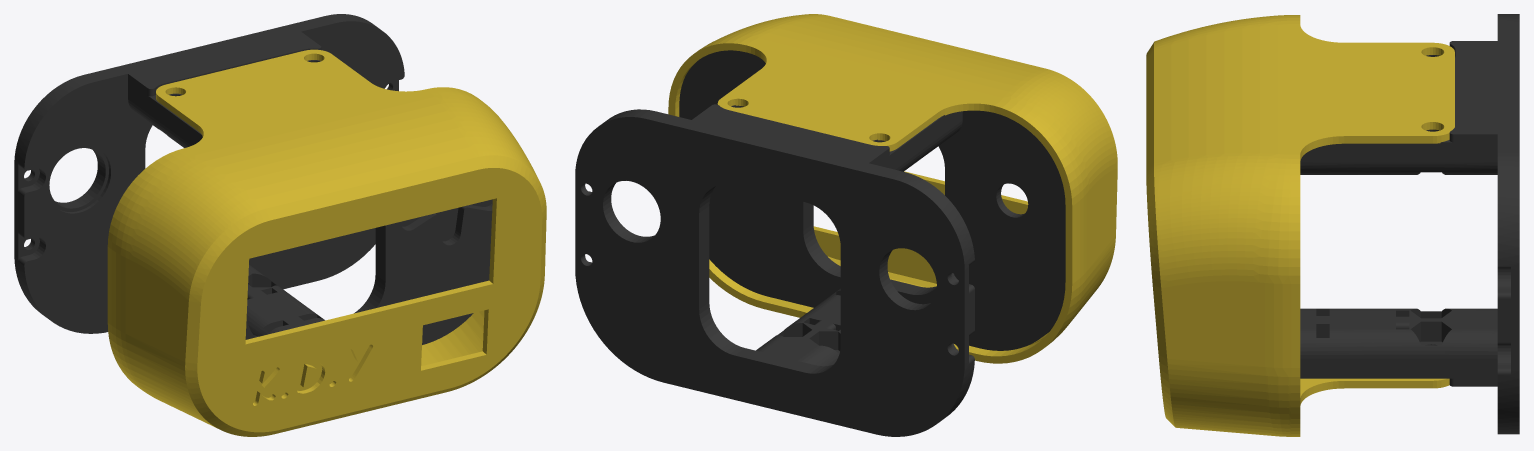
File: back.dae
3 views of the same model, side by side, from view 1: azimuth 30°, elevation 25°; view 2: azimuth 150°, elevation 25°; view 3: azimuth 270°, elevation 25° (orthographic). The views are drawn at different scales.
Parts seen in each view (by area): view 1: R_cover, R_shoulder, F_shoulder; view 2: R_shoulder, R_cover, F_shoulder; view 3: R_cover, R_shoulder.
Boxes of the visible parts, box(x1,y1,x2,y2) form: R_cover: box(107, 49, 546, 436); R_shoulder: box(14, 14, 404, 336); F_shoulder: box(245, 199, 492, 344); R_shoulder: box(575, 104, 974, 436); R_cover: box(668, 14, 1117, 363); F_shoulder: box(679, 50, 1065, 350); R_cover: box(1146, 15, 1454, 436); R_shoulder: box(1300, 14, 1519, 434).
Size of the model in its own units: 114 by 84.5 by 70.29.
